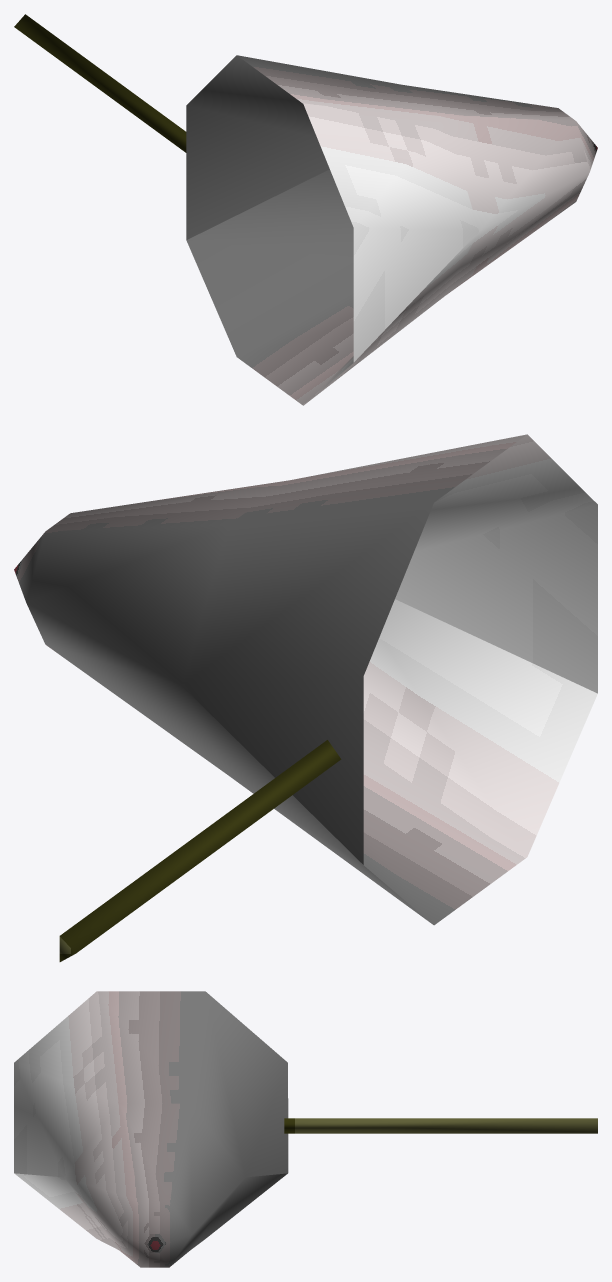
The picture shows the model from 3 angles, top to bottom: view 1: azimuth 30°, elevation 25°; view 2: azimuth 150°, elevation 25°; view 3: azimuth 270°, elevation 25°; orthographic projection. The views are drawn at different scales.
Parts seen in each view (by area): view 1: 1312equip03_d; view 2: 1312equip03_d; view 3: 1312equip03_d.
Boxes of the visible parts, x1,y1,x2,y2 form: 1312equip03_d: (14,14,597,405); 1312equip03_d: (14,434,597,961); 1312equip03_d: (14,991,597,1267).
Size of the model in its own units: 0.8721 by 0.761 by 1.63.
1 material, 1 textured.
